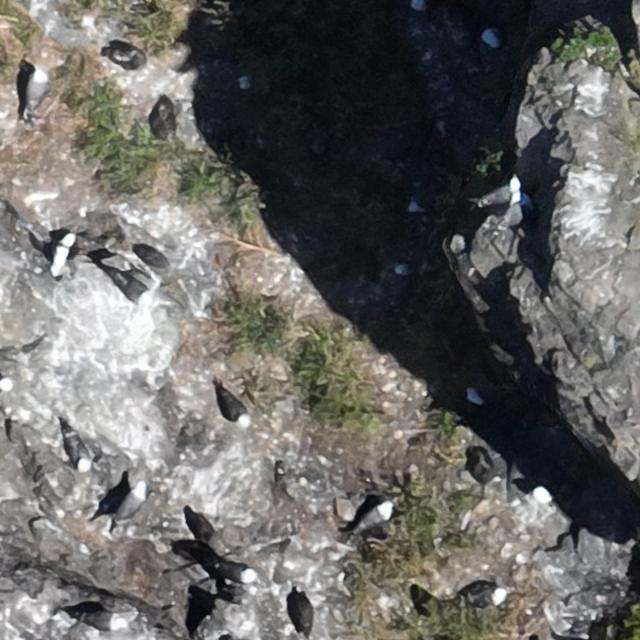umineko: (102, 263, 154, 305), (479, 176, 525, 211), (46, 230, 74, 282), (208, 559, 252, 583), (357, 504, 391, 529), (222, 393, 248, 424), (79, 610, 119, 630), (117, 488, 144, 516), (469, 586, 505, 606), (27, 72, 46, 107), (72, 437, 92, 469)
